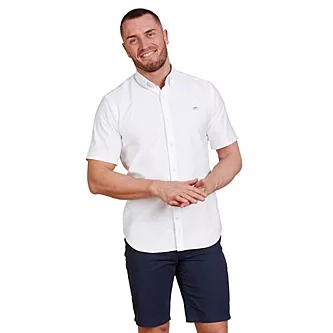S_shirt: (85, 66, 239, 254)
